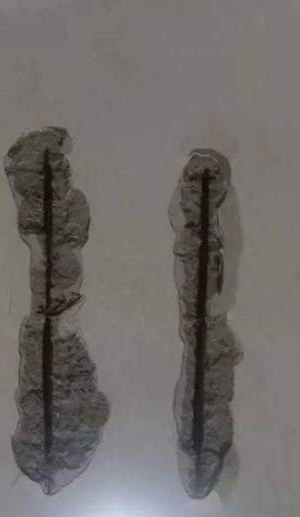Exposed reinforcement: (190, 166, 212, 451), (41, 147, 55, 455)
Spalling: (1, 125, 110, 497), (166, 147, 245, 500)
